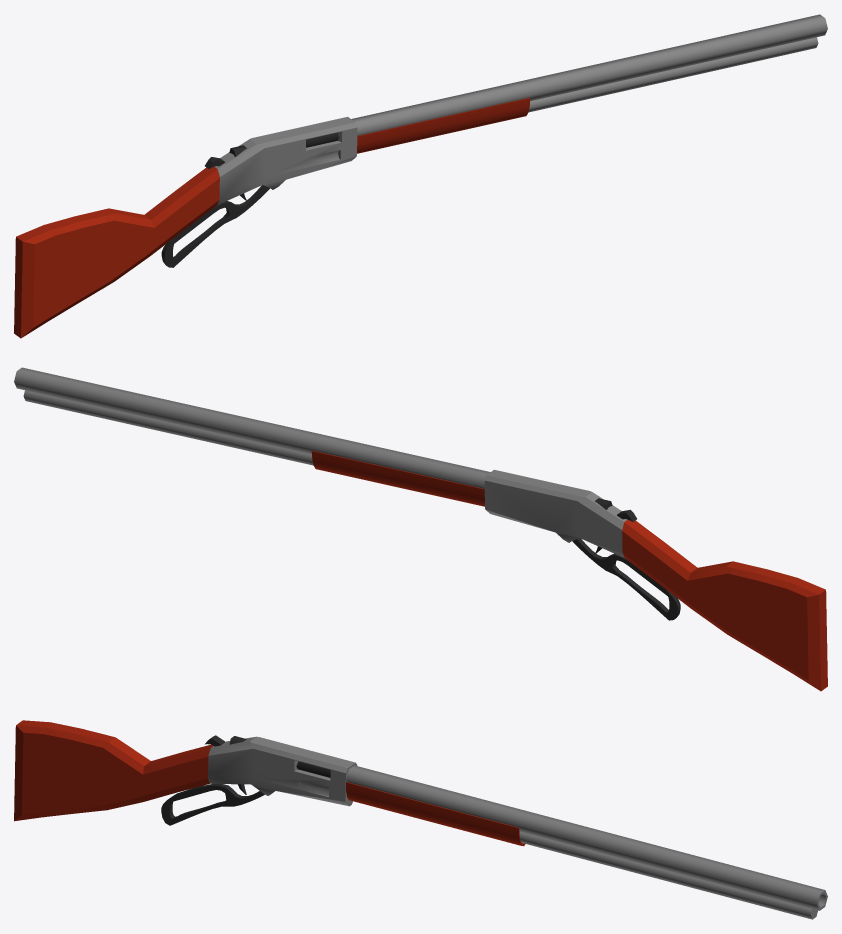
The model's file is Lever_action_reload.fbx.
3 renders of one model, top to bottom at view 1: azimuth 30°, elevation 25°; view 2: azimuth 150°, elevation 25°; view 3: azimuth 330°, elevation 25°, orthographic.
Visible parts, largest first — view 1: Box016, barrel003, Box014, mag001, Box017, Line002; view 2: Box016, barrel003, Box014, mag001, Box017, Line002; view 3: Box016, barrel003, Box014, mag001, Box017, Line002, chamber001.
Boxes of the visible parts, x1,y1,x2,y2 form: Box016: (14, 166, 219, 338); barrel003: (351, 14, 827, 135); Box014: (214, 116, 357, 205); mag001: (528, 37, 818, 112); Box017: (357, 97, 530, 153); Line002: (161, 185, 269, 267); Box016: (622, 519, 827, 691); barrel003: (14, 367, 490, 488); Box014: (484, 469, 627, 557); mag001: (23, 390, 313, 465); Box017: (311, 450, 484, 506); Line002: (572, 538, 680, 620); Box016: (14, 720, 213, 821); barrel003: (346, 765, 827, 910); Box014: (208, 736, 357, 806); mag001: (519, 831, 817, 919); Box017: (346, 782, 525, 846); Line002: (161, 784, 264, 825); chamber001: (229, 736, 330, 777).
Size of the model in its own units: 72.86 by 11.84 by 1.81.
